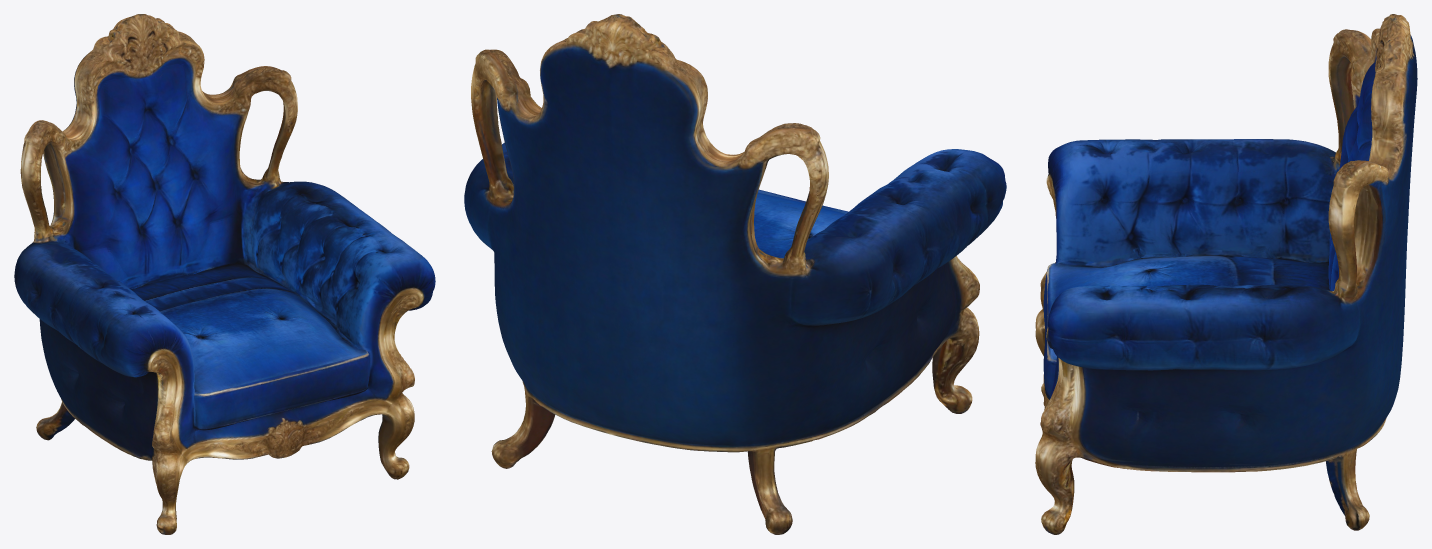
The model's file is mansion-armchair.glb.
The picture shows the model from 3 angles, left to right: view 1: azimuth 30°, elevation 25°; view 2: azimuth 150°, elevation 25°; view 3: azimuth 270°, elevation 25°; orthographic projection. The views are drawn at different scales.
Bounding box in the file's own units: 0.9786 × 1.11 × 0.8487.
Materials: 1 (1 with a texture image).
